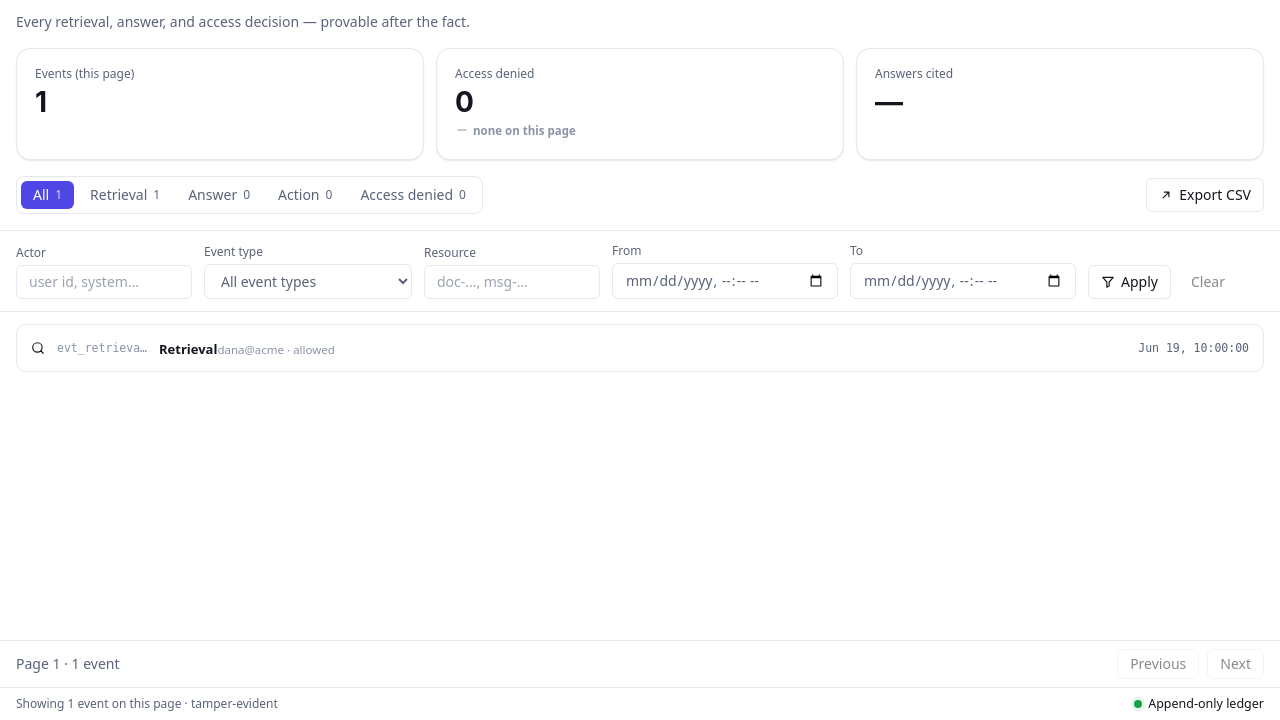
Scenario: AuditPanel › opens the provenance drawer on row click with the allow/exclude ledger + raw payload
The image size is (1280, 720).
Click the button with aria-label "audit event": (102, 348) [16, 324, 1264, 372]
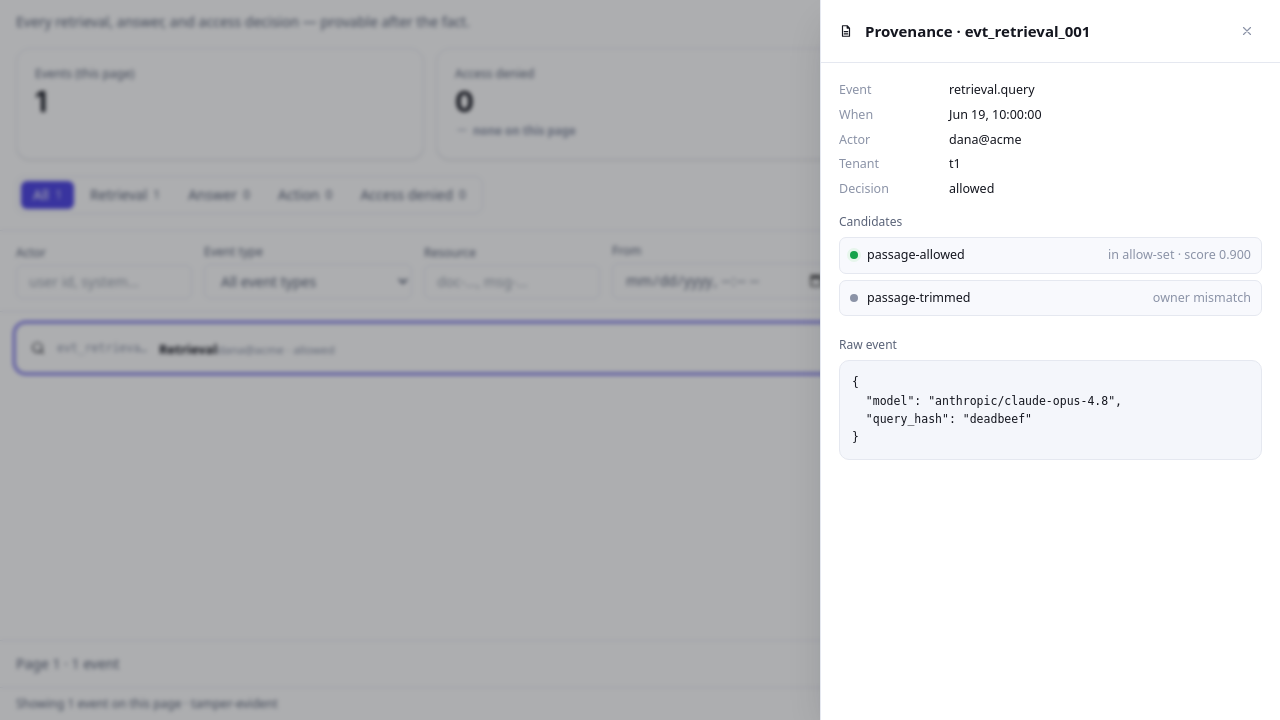
Check: the text "passage-allowed" is shown, box [867, 246, 965, 263]
Check: the text "passage-trimmed" is shown, box [867, 288, 970, 306]
Check: the text "owner mismatch" is shown, box [1153, 288, 1251, 307]
